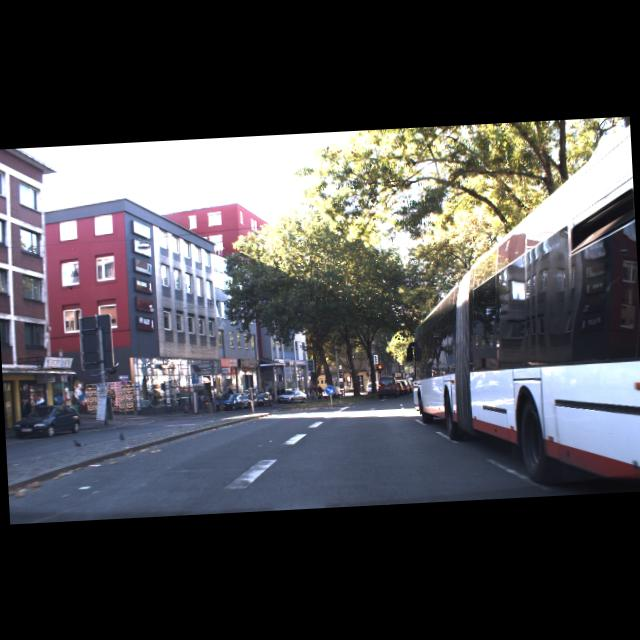mandatory: (324, 384, 335, 395)
